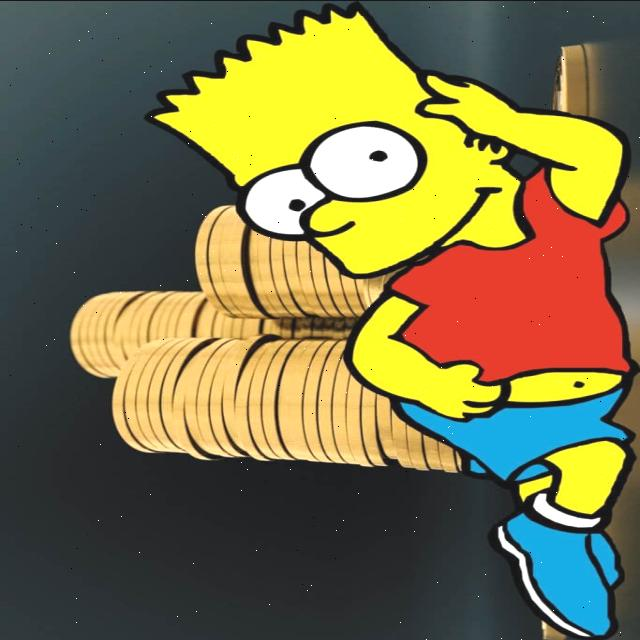Bart Simpson: (140, 0, 540, 280)
